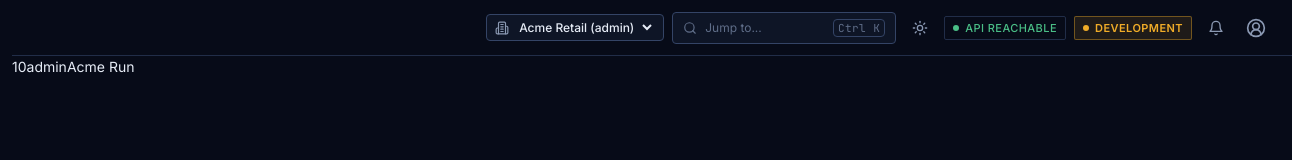
Test: Organisation context, cache isolation and route protection › switches organisations, sends X-Organisation-Id, and clears previous org cache
The width and height of the screenshot is (1292, 160).
Check: the text with test id "active-org-id" reads "10", box left=12, top=58, right=26, bottom=75
Check: the text with test id "active-org-role" reads "admin", box left=26, top=58, right=67, bottom=75
Select "Beta Stores (analyst)" in the dropdown named "Active organisation" at point(585, 28), box left=515, top=19, right=655, bottom=36
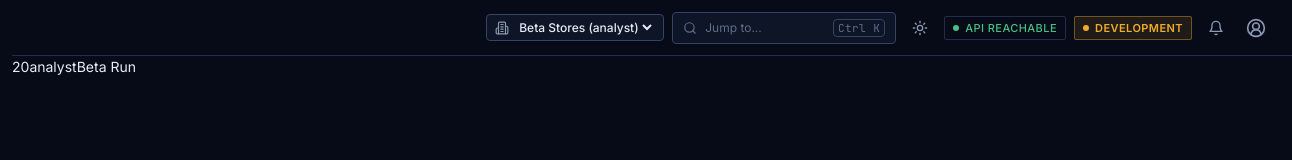
Check: the text with test id "active-org-id" reads "20", box left=12, top=58, right=29, bottom=75
Check: the text with test id "active-org-role" reads "analyst", box left=29, top=58, right=77, bottom=75
Check: the text with test id "runs-data" reads "Beta Run", box left=77, top=58, right=136, bottom=75
